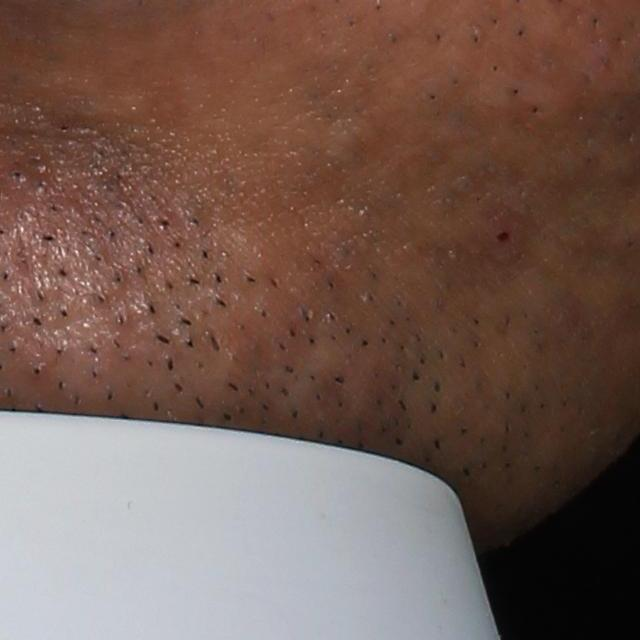hypertrophic_scar: (296, 337, 396, 424), (464, 332, 545, 407), (497, 64, 568, 118), (320, 117, 376, 161)
papule: (474, 212, 530, 263)
